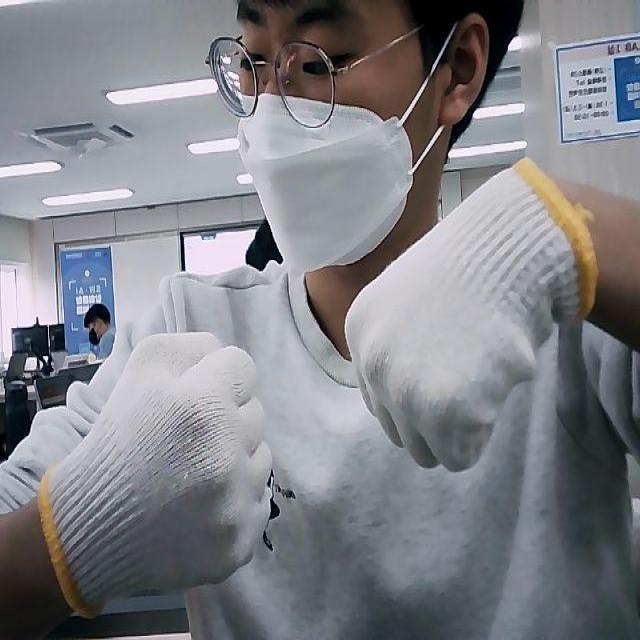gloves: (346, 156, 594, 470), (38, 328, 270, 618)
